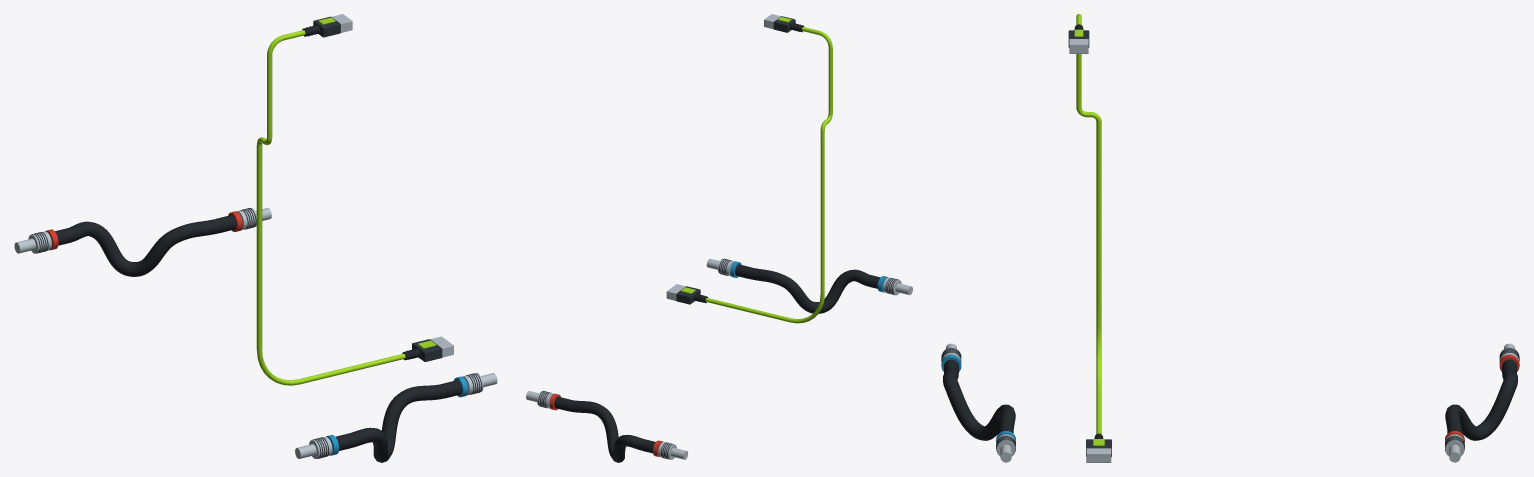
File: SM_GJ_Harness_15.fbx
The picture shows the model from 3 angles, left to right: view 1: azimuth 30°, elevation 25°; view 2: azimuth 150°, elevation 25°; view 3: azimuth 270°, elevation 25°; orthographic projection. The views are drawn at different scales.
Parts seen in each view (by area): view 1: SM_GJ_Harness_15; view 2: SM_GJ_Harness_15; view 3: SM_GJ_Harness_15.
Boxes of the visible parts, box(x1,y1,x2,y2) form: SM_GJ_Harness_15: box(14, 14, 497, 462); SM_GJ_Harness_15: box(526, 14, 912, 462); SM_GJ_Harness_15: box(941, 14, 1519, 462).
Bounding box in the file's own units: 22.6 × 50.76 × 39.03.
